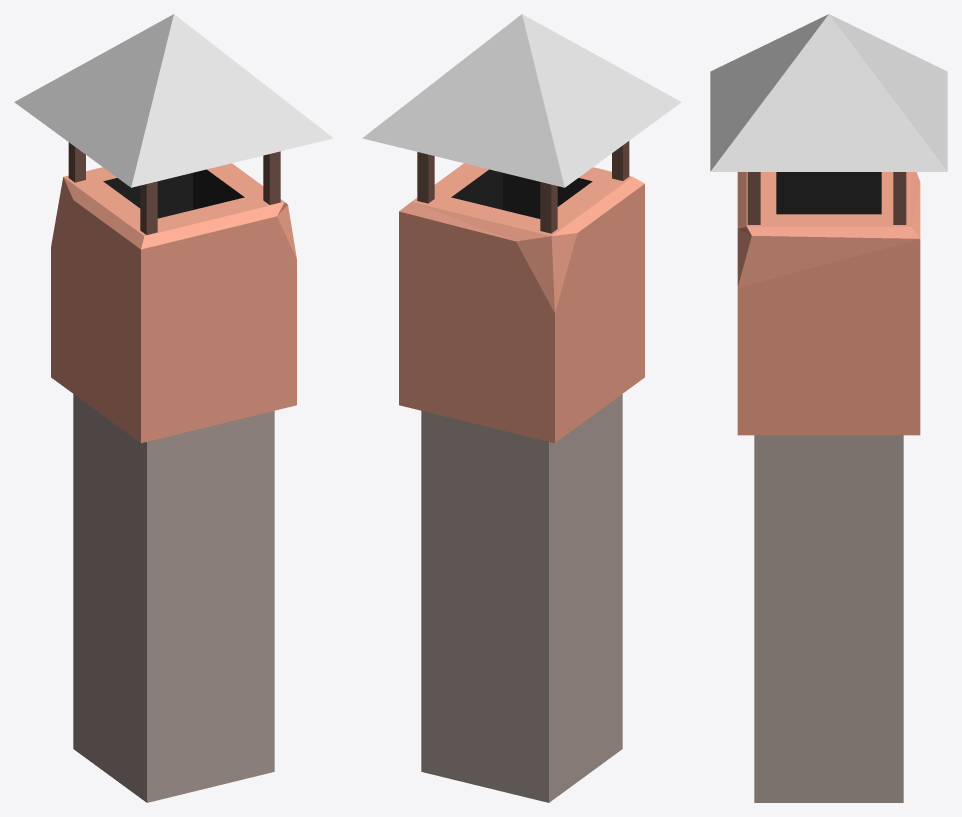
Rendered from Flue_003.glb.
3 views of the same model, side by side, from view 1: azimuth 30°, elevation 25°; view 2: azimuth 150°, elevation 25°; view 3: azimuth 270°, elevation 25° (orthographic).
Parts seen in each view (by area): view 1: Flue_003; view 2: Flue_003; view 3: Flue_003.
Boxes of the visible parts, x1,y1,x2,y2 form: Flue_003: (14,14,333,802); Flue_003: (362,14,681,802); Flue_003: (710,14,947,802).
Bounding box in the file's own units: 1.58 × 5.55 × 1.58.
1 material, 1 textured.
